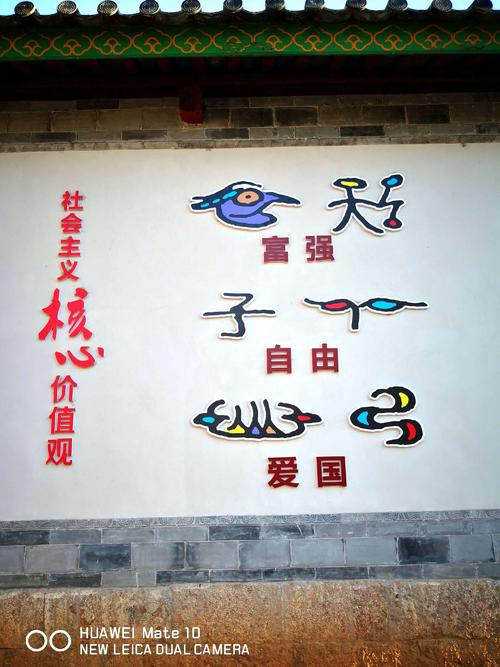chinese: (43, 182, 104, 469), (257, 452, 352, 488), (261, 340, 345, 376), (256, 236, 347, 266)
naxi: (208, 280, 434, 339), (183, 393, 424, 448), (184, 178, 407, 237), (257, 452, 352, 488)
